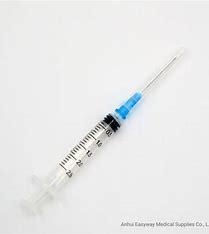Syringe: (17, 46, 192, 222)
